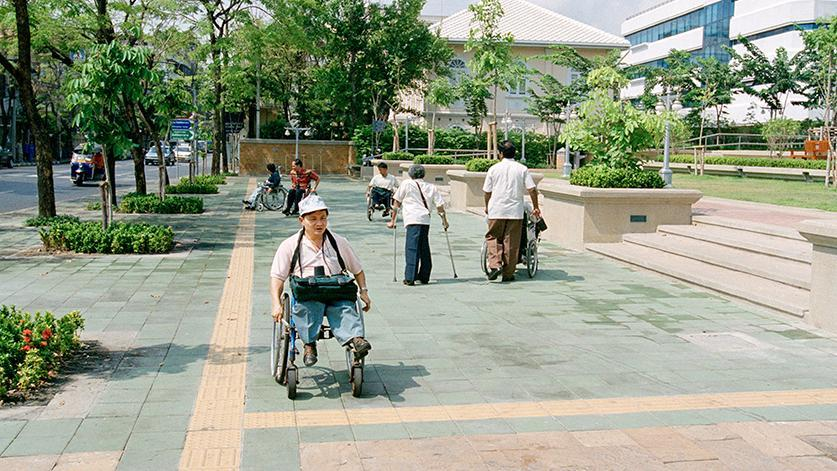crutches: (386, 161, 462, 288)
wheelchair: (274, 202, 376, 396), (479, 194, 549, 279), (281, 153, 323, 219), (239, 159, 286, 214), (363, 160, 404, 221)
